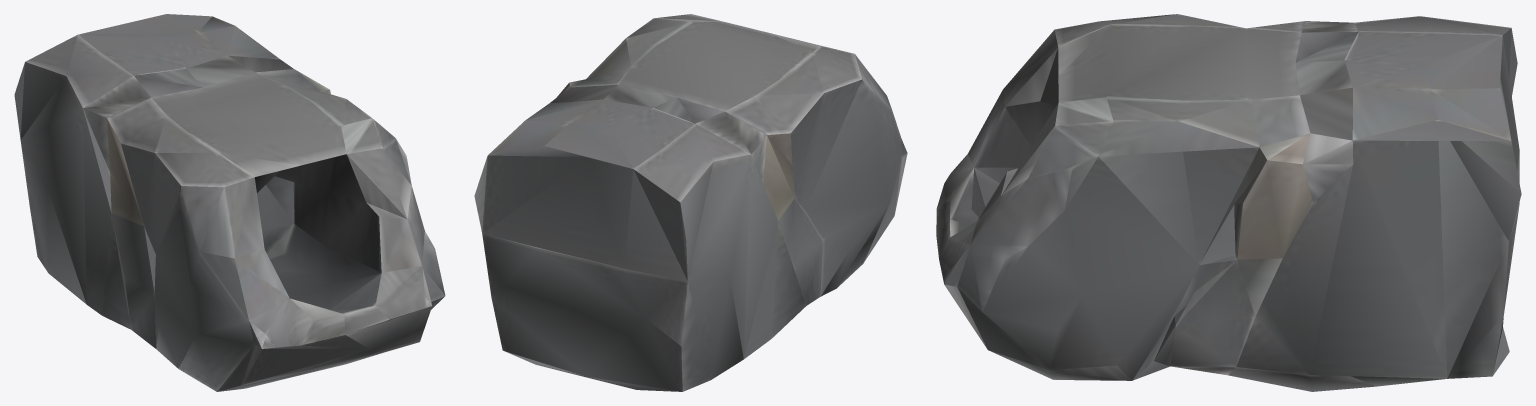
File: shared_defence_battery__elevation_module_lod2.glb
3 views of the same model, side by side, from view 1: azimuth 30°, elevation 25°; view 2: azimuth 150°, elevation 25°; view 3: azimuth 270°, elevation 25° (orthographic). The views are drawn at different scales.
Visible parts, largest first — view 1: mesh_node; view 2: mesh_node; view 3: mesh_node.
Boxes of the visible parts, <box> form: mesh_node: <box>14,14,445,391</box>; mesh_node: <box>474,14,907,391</box>; mesh_node: <box>936,14,1521,391</box>.
Bounding box in the file's own units: 3.62 × 3.52 × 6.59.
1 material, 1 textured.
